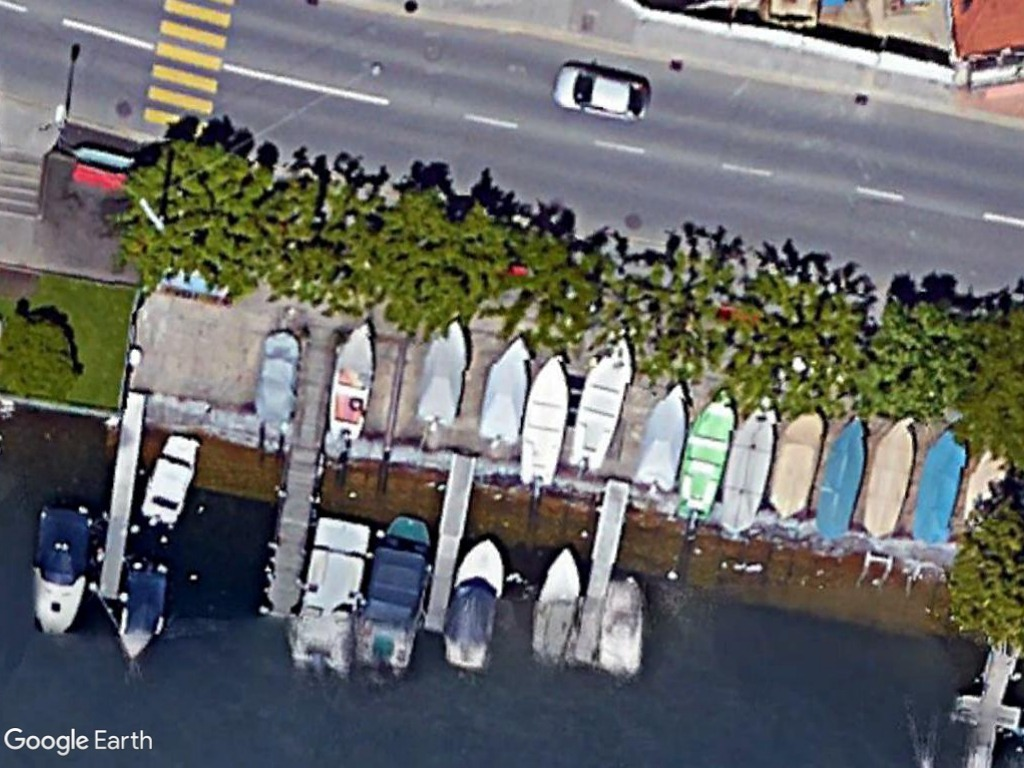boat: (564, 336, 639, 476), (713, 397, 780, 543), (856, 410, 931, 537), (672, 393, 739, 519), (516, 351, 573, 494), (809, 407, 870, 540), (909, 423, 971, 549), (323, 311, 377, 447), (766, 401, 828, 519), (633, 383, 692, 507), (413, 313, 473, 427), (479, 334, 536, 451)
car: (547, 54, 659, 124)
